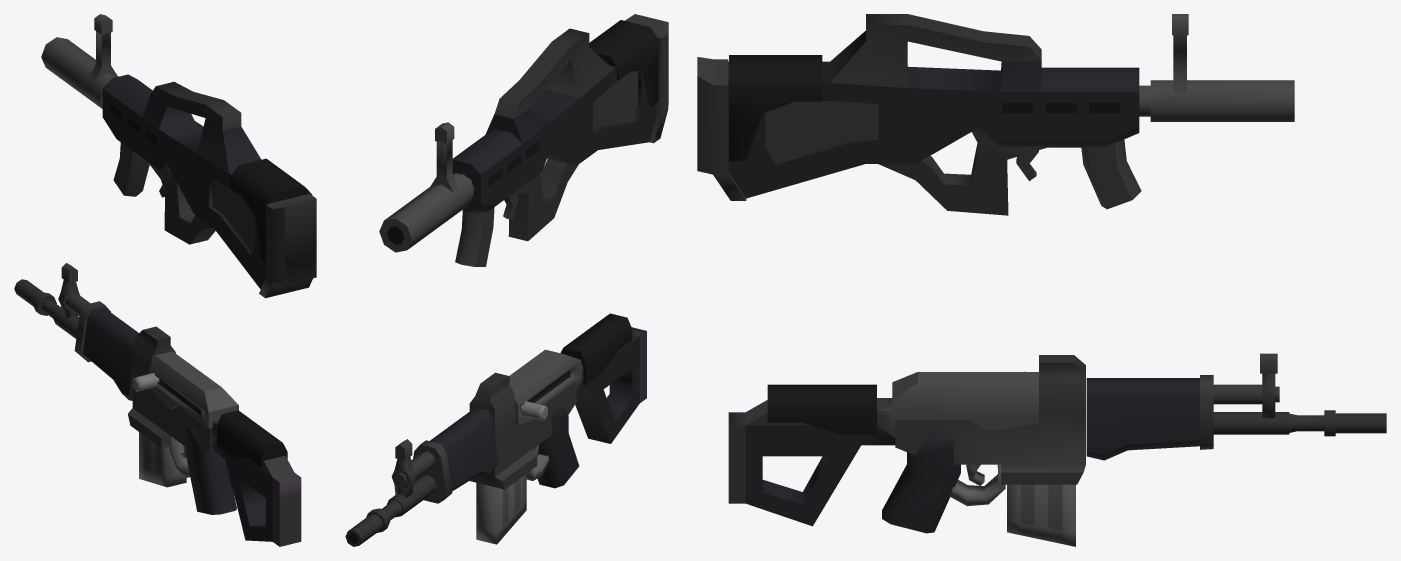
File: 7.62Rifle&Bullpup.fbx
3 views of the same model, side by side, from view 1: azimuth 30°, elevation 25°; view 2: azimuth 150°, elevation 25°; view 3: azimuth 270°, elevation 25° (orthographic). The views are drawn at different scales.
Parts seen in each view (by area): view 1: 7.62Bullpup, 7.62Rifle, 7.62Magazine; view 2: 7.62Bullpup, 7.62Rifle, 7.62Magazine; view 3: 7.62Bullpup, 7.62Rifle, 7.62Magazine.
Part boxes in pixels (x1=…): 7.62Bullpup: x1=41, y1=14, x2=316, y2=298; 7.62Rifle: x1=14, y1=263, x2=301, y2=546; 7.62Magazine: x1=139, y1=432, x2=186, y2=487; 7.62Bullpup: x1=379, y1=14, x2=668, y2=266; 7.62Rifle: x1=345, y1=313, x2=646, y2=546; 7.62Magazine: x1=476, y1=474, x2=526, y2=544; 7.62Bullpup: x1=697, y1=14, x2=1294, y2=215; 7.62Rifle: x1=728, y1=353, x2=1386, y2=533; 7.62Magazine: x1=1007, y1=484, x2=1075, y2=546.
Bounding box in the file's own units: 0.1348 × 0.9782 × 1.16.
